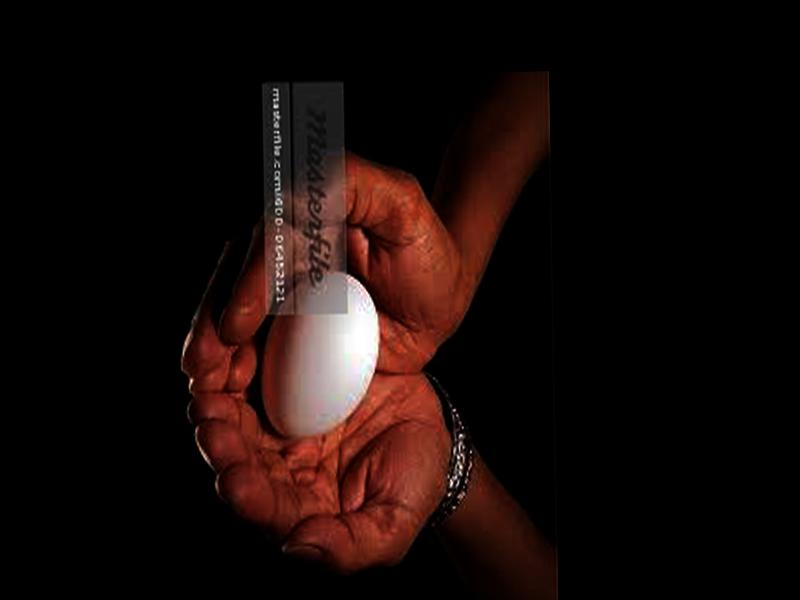Eggs: (257, 271, 381, 440)
